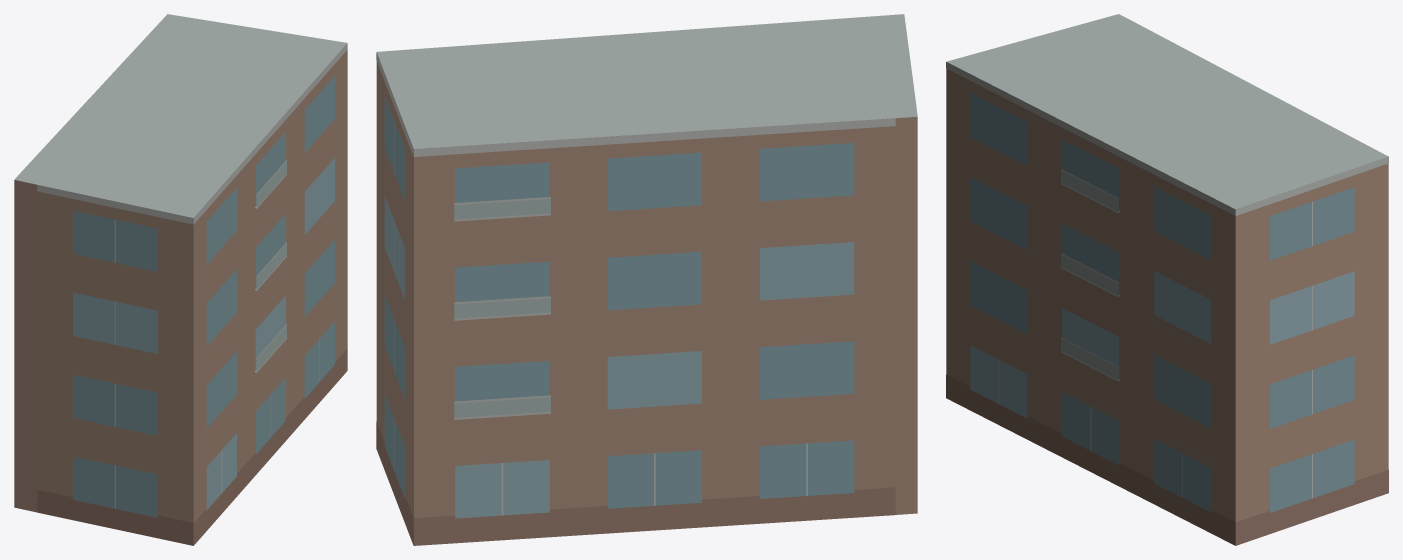
Rendered from survey-upis-32964472.glb.
3 views of the same model, side by side, from view 1: azimuth 30°, elevation 25°; view 2: azimuth 150°, elevation 25°; view 3: azimuth 270°, elevation 25° (orthographic). The views are drawn at different scales.
Parts seen in each view (by area): view 1: survey-upis-32964472.tmp; view 2: survey-upis-32964472.tmp; view 3: survey-upis-32964472.tmp.
Part boxes in pixels (x1,y1,x2,y2): survey-upis-32964472.tmp: (14, 14, 347, 545); survey-upis-32964472.tmp: (376, 14, 917, 545); survey-upis-32964472.tmp: (946, 14, 1388, 545).
Size of the model in its own units: 15.2 by 12.2 by 14.56.
